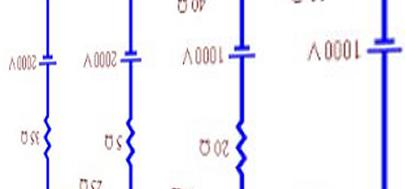resistor: (229, 117, 254, 176), (35, 108, 59, 159), (120, 111, 143, 164)
